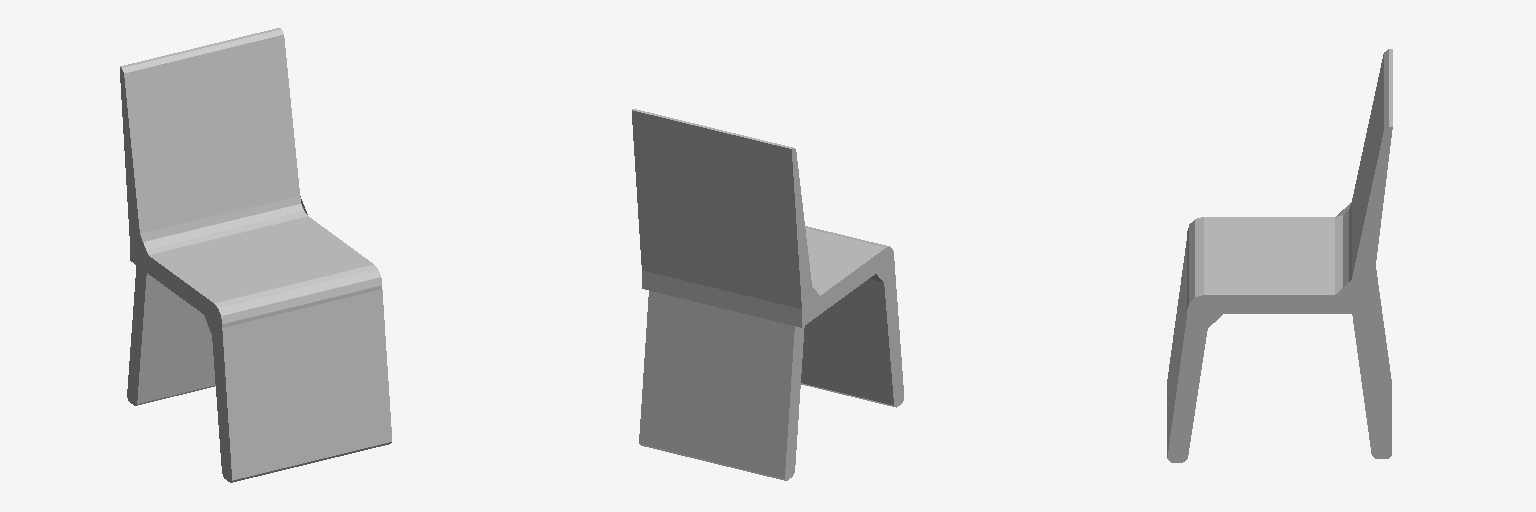
The model's file is chair.obj.
The picture shows the model from 3 angles: view 1: azimuth 30°, elevation 25°; view 2: azimuth 150°, elevation 25°; view 3: azimuth 270°, elevation 25°; orthographic projection.
Parts seen in each view (by area): view 1: Cube; view 2: Cube; view 3: Cube.
Boxes of the visible parts, <box> form: Cube: <box>120,28,391,482</box>; Cube: <box>632,109,903,480</box>; Cube: <box>1167,49,1392,462</box>.
Size of the model in its own units: 0.45 by 0.9 by 0.5488.